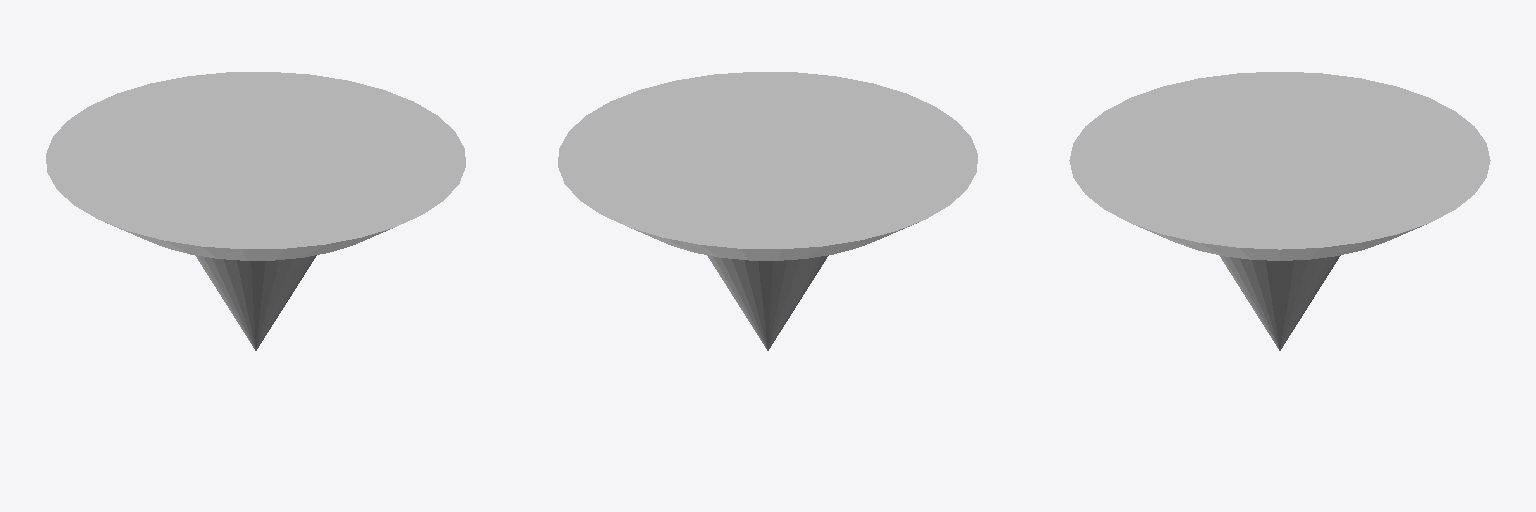
File: DownNeedle.obj
3 renders of one model, left to right at view 1: azimuth 30°, elevation 25°; view 2: azimuth 150°, elevation 25°; view 3: azimuth 270°, elevation 25°, orthographic.
Parts seen in each view (by area): view 1: DownNeedle; view 2: DownNeedle; view 3: DownNeedle.
Boxes of the visible parts, x1,y1,x2,y2 form: DownNeedle: [46, 72, 465, 350]; DownNeedle: [558, 72, 977, 350]; DownNeedle: [1069, 72, 1490, 350].
Size of the model in its own units: 2 by 1 by 2.